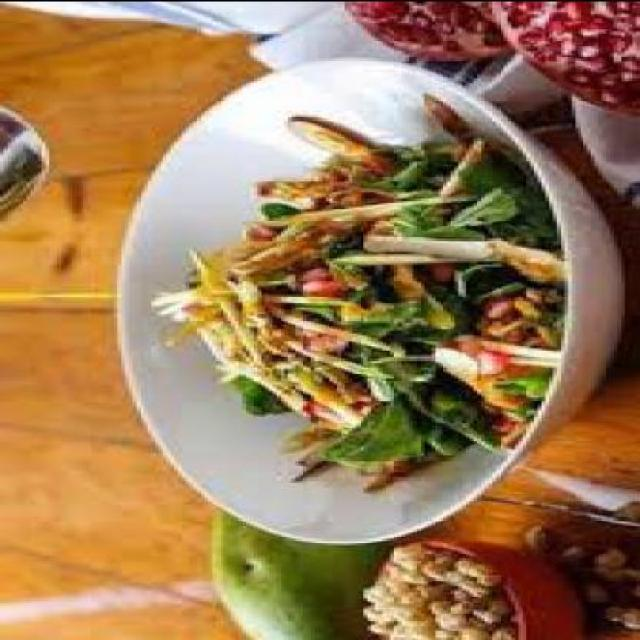BIODEGRADABLE: (277, 116, 461, 282), (276, 287, 424, 488), (227, 284, 447, 416), (147, 222, 310, 380), (208, 509, 388, 638), (421, 301, 561, 454), (242, 184, 440, 285), (382, 140, 546, 254), (481, 2, 636, 118), (424, 242, 564, 349), (360, 548, 509, 638), (337, 2, 515, 62), (602, 605, 636, 630), (522, 526, 546, 552), (594, 552, 620, 574), (580, 580, 602, 606), (595, 568, 636, 580), (553, 545, 579, 561)
METAL: (0, 105, 46, 222)
